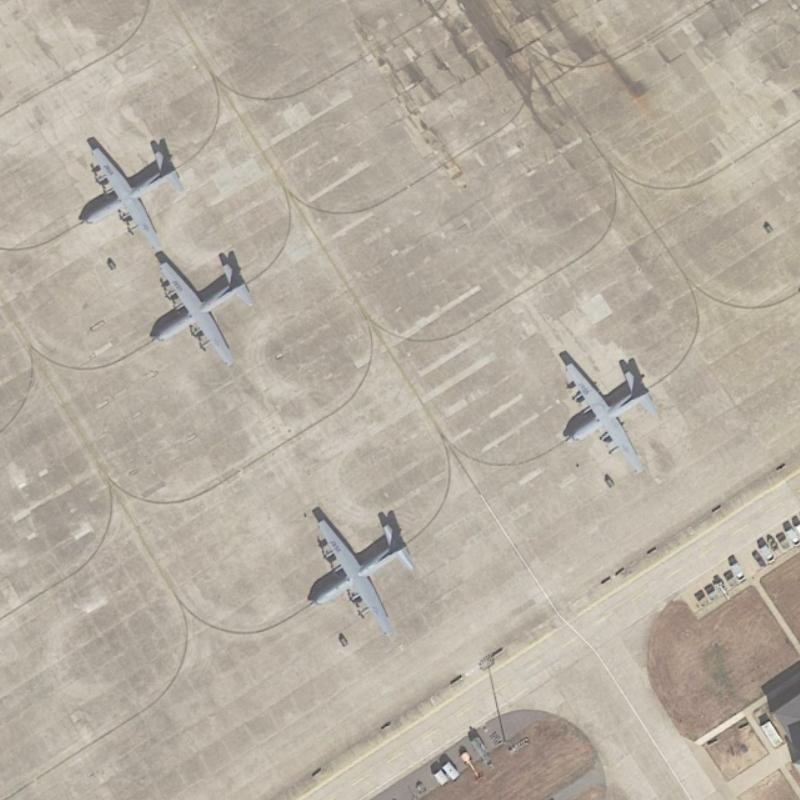A2: (295, 504, 420, 629), (140, 254, 261, 369), (68, 132, 188, 246), (553, 345, 658, 471)
